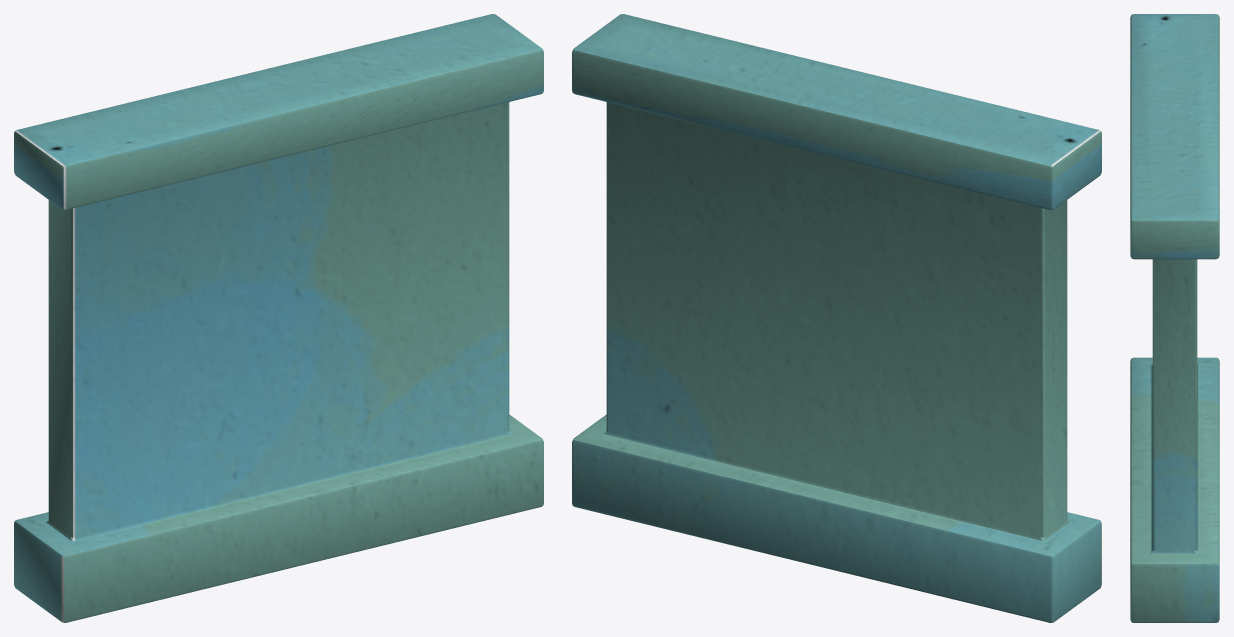
File: TOMB_WALL_2_2.obj
3 renders of one model, left to right at view 1: azimuth 30°, elevation 25°; view 2: azimuth 150°, elevation 25°; view 3: azimuth 270°, elevation 25°, orthographic. The views are drawn at different scales.
Visible parts, largest first — view 1: TOMB_WALL_2_2.002; view 2: TOMB_WALL_2_2.002; view 3: TOMB_WALL_2_2.002.
Boxes of the visible parts, x1=… form: TOMB_WALL_2_2.002: x1=14, y1=14, x2=543, y2=622; TOMB_WALL_2_2.002: x1=572, y1=14, x2=1101, y2=622; TOMB_WALL_2_2.002: x1=1130, y1=14, x2=1219, y2=622.
Size of the model in its own units: 2.2 by 2 by 0.4.
Materials: 1 (1 with a texture image).
